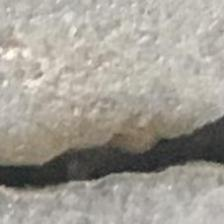Crack: (0, 100, 224, 201)
